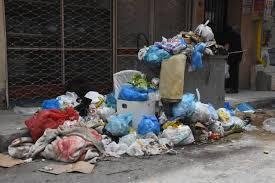Container: (157, 61, 228, 100)
Garbage: (145, 22, 228, 57), (28, 104, 85, 136), (112, 135, 177, 160), (197, 117, 243, 142), (47, 93, 105, 110), (123, 72, 156, 99), (171, 90, 199, 121), (193, 100, 223, 127), (164, 124, 191, 152), (135, 44, 167, 66), (108, 113, 134, 134), (138, 115, 159, 140), (199, 15, 216, 42), (204, 43, 228, 58), (164, 35, 188, 49), (193, 41, 203, 71), (219, 102, 230, 122)
